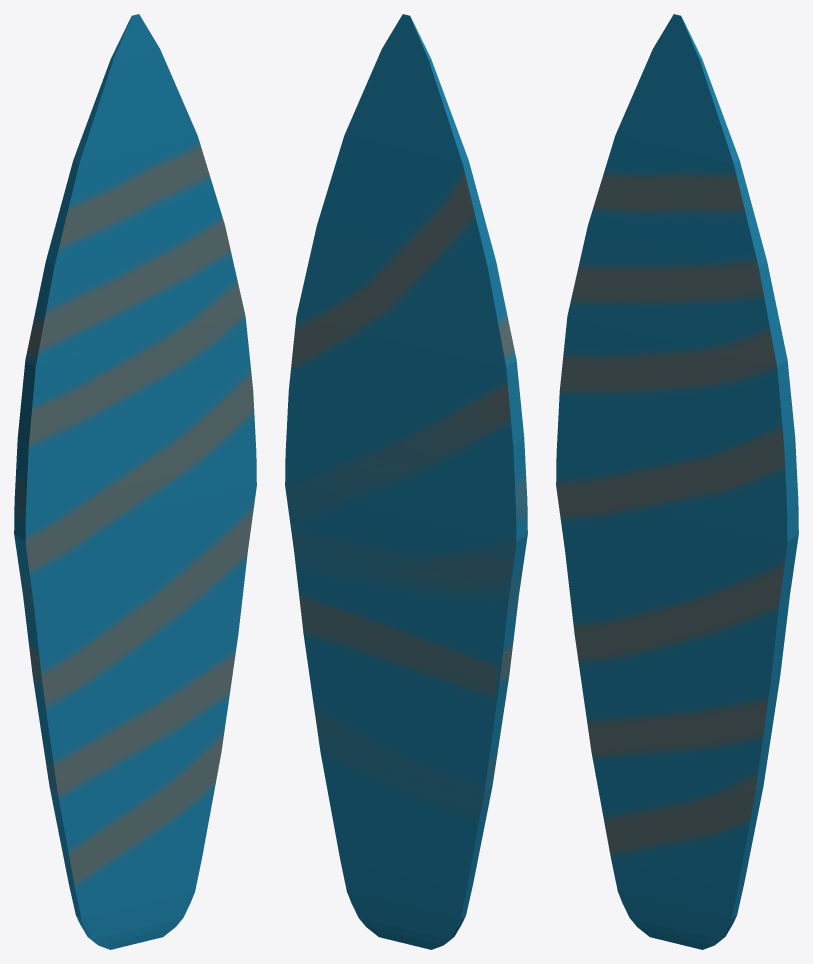
Rendered from tablaSurf.fbx.
3 views of the same model, side by side, from view 1: azimuth 30°, elevation 25°; view 2: azimuth 150°, elevation 25°; view 3: azimuth 330°, elevation 25° (orthographic).
Parts seen in each view (by area): view 1: Cube; view 2: Cube; view 3: Cube.
Boxes of the visible parts, x1,y1,x2,y2 form: Cube: (14,14,256,949); Cube: (285,14,527,949); Cube: (556,14,798,949).
Bounding box in the file's own units: 165 × 633 × 14.09.
Materials: 1 (1 with a texture image).
